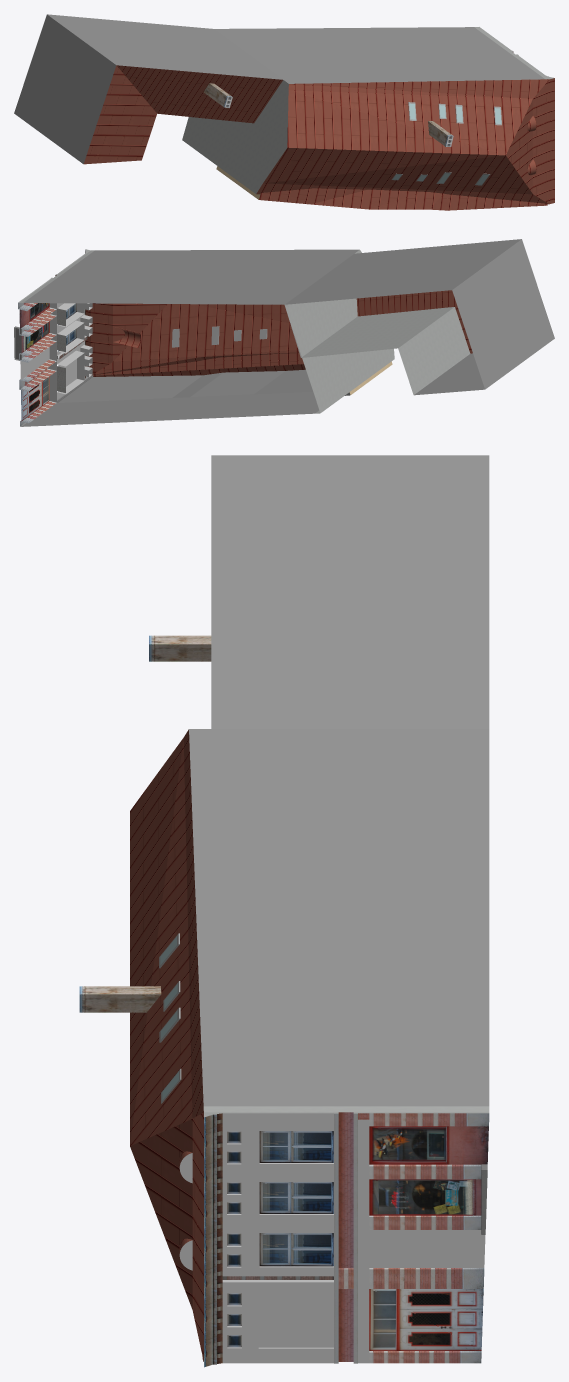
File: Suur-Karja_6.obj
The picture shows the model from 3 angles, top to bottom: view 1: azimuth 30°, elevation 25°; view 2: azimuth 150°, elevation 25°; view 3: azimuth 270°, elevation 25°; orthographic projection. The views are drawn at different scales.
Parts seen in each view (by area): view 1: suur_karja6, xxx; view 2: xxx, suur_karja6; view 3: xxx, suur_karja6.
Part boxes in pixels (x1,y1,x2,y2): suur_karja6: (84, 27, 554, 210); xxx: (14, 14, 544, 163); xxx: (20, 239, 554, 426); suur_karja6: (14, 249, 472, 426); xxx: (189, 455, 489, 1361); suur_karja6: (79, 635, 489, 1367).
Bounding box in the file's own units: 37.53 × 18.6 × 14.18.
